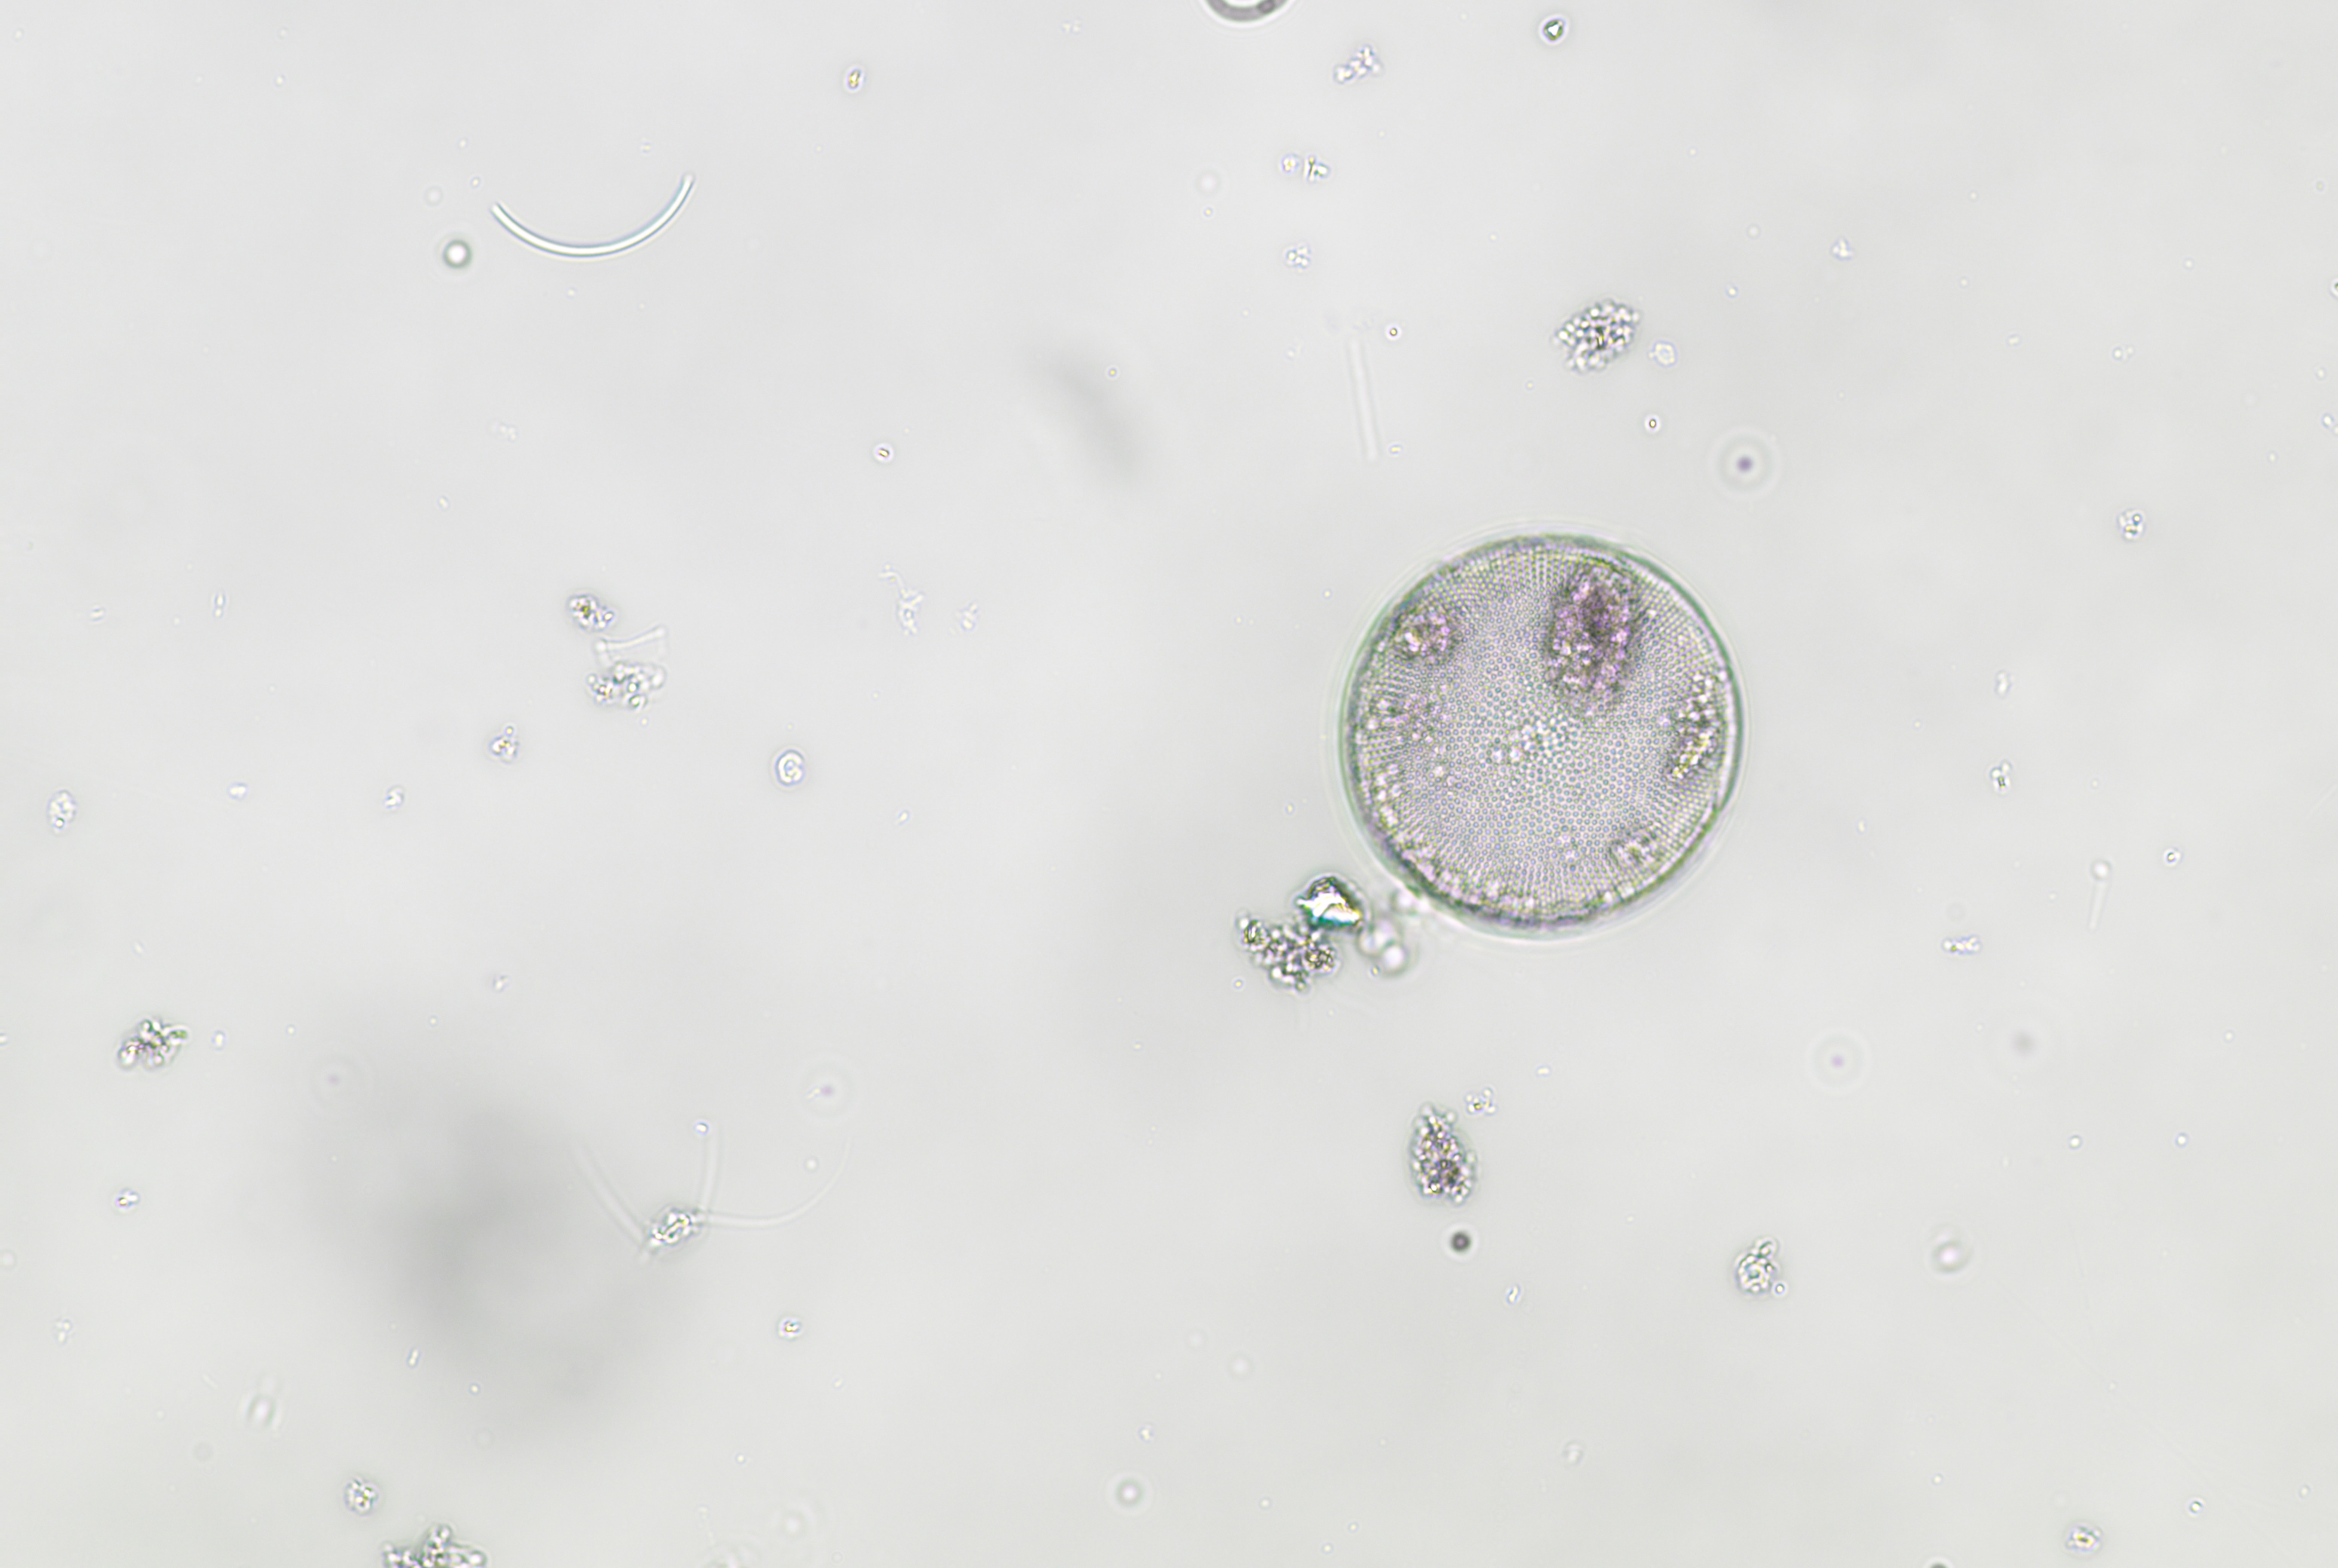coscinodiscus: (1335, 530, 1755, 947)
